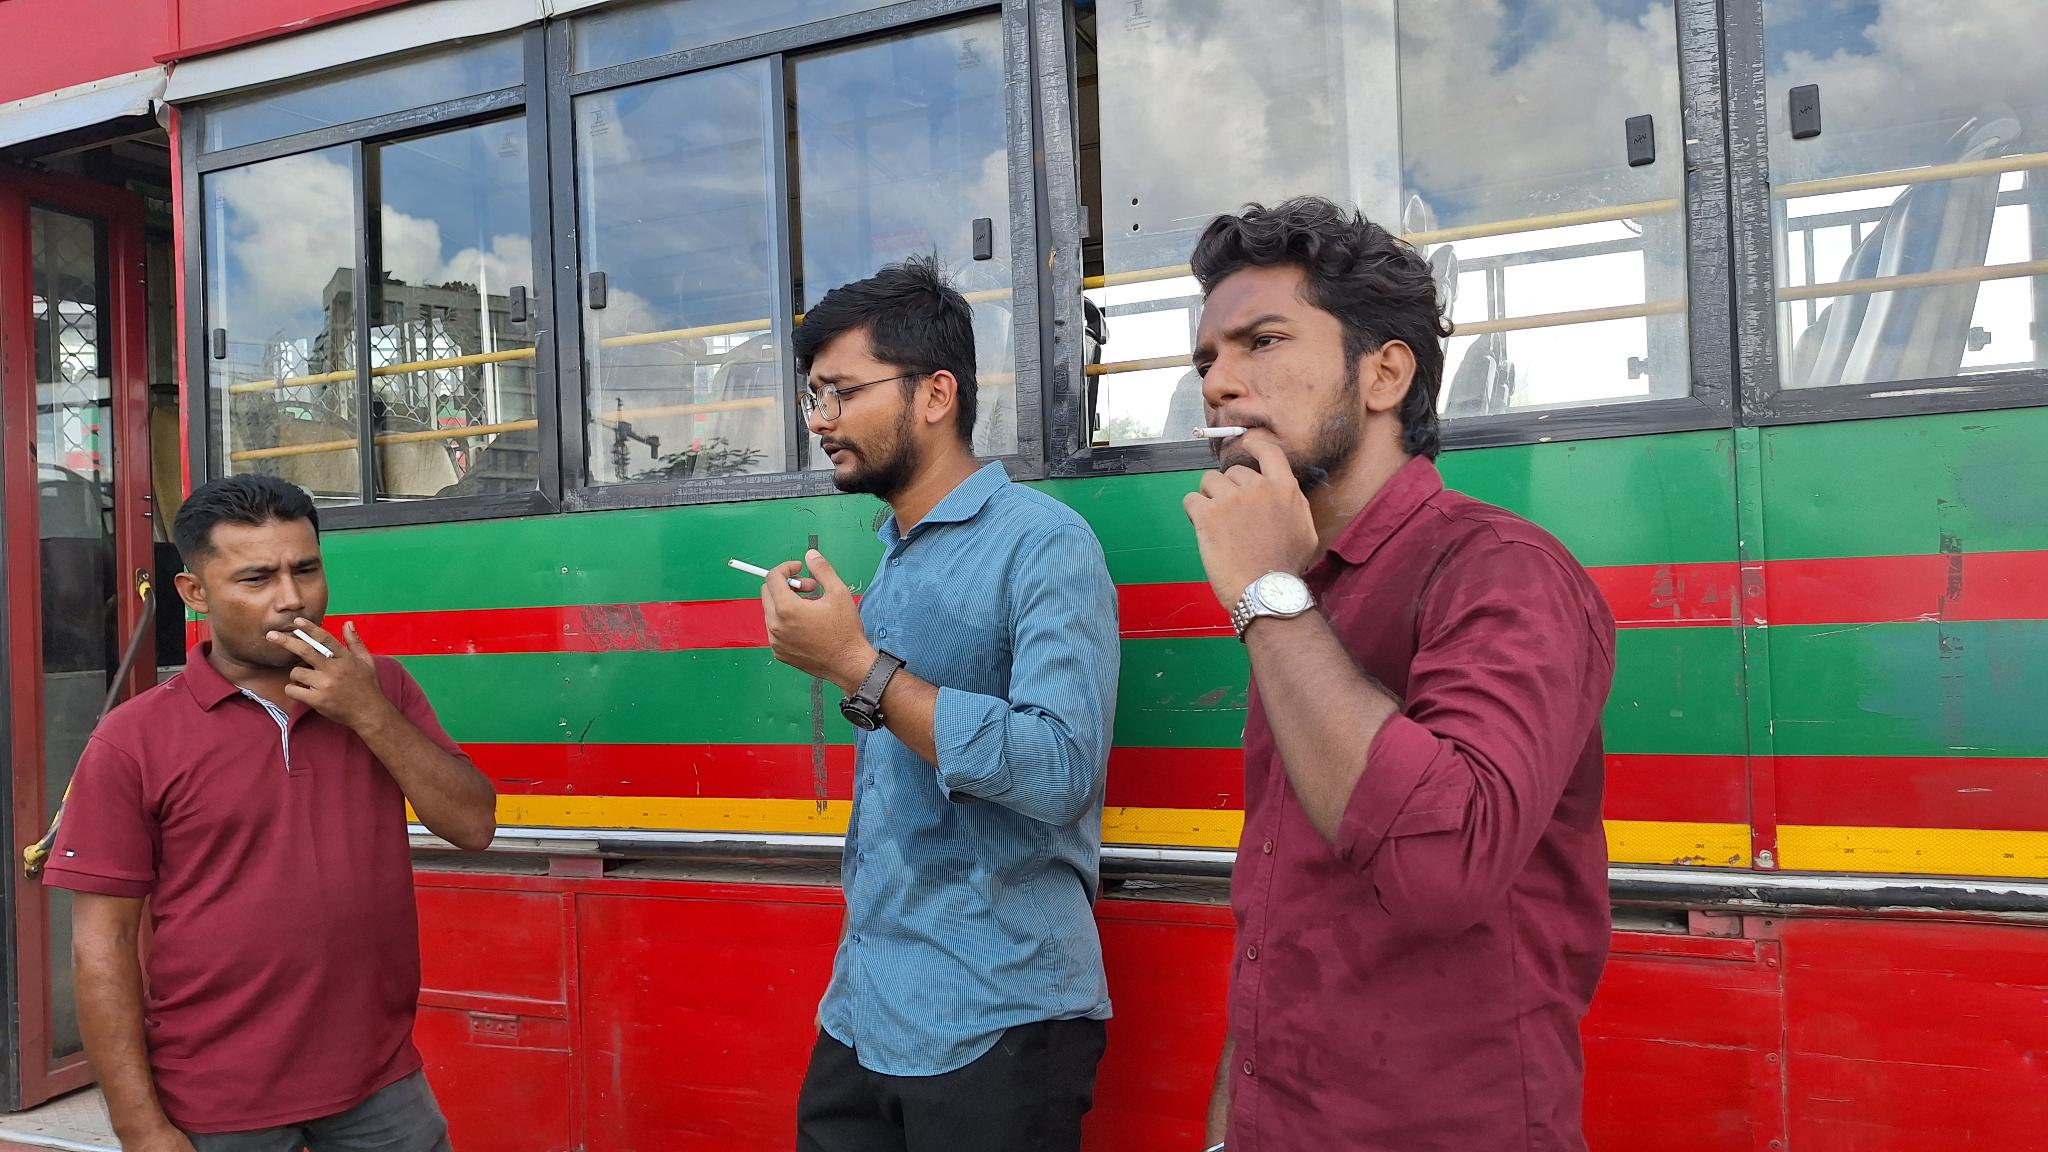cigarette: (724, 554, 805, 592), (291, 627, 338, 661), (1189, 421, 1250, 443)
smoker: (1183, 198, 1618, 1152), (758, 271, 1122, 1152), (42, 473, 498, 1152)
